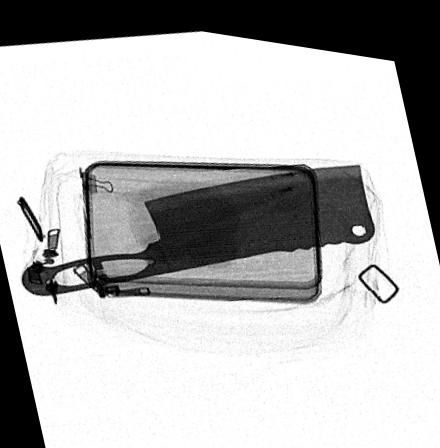Knife: (19, 152, 373, 294)
